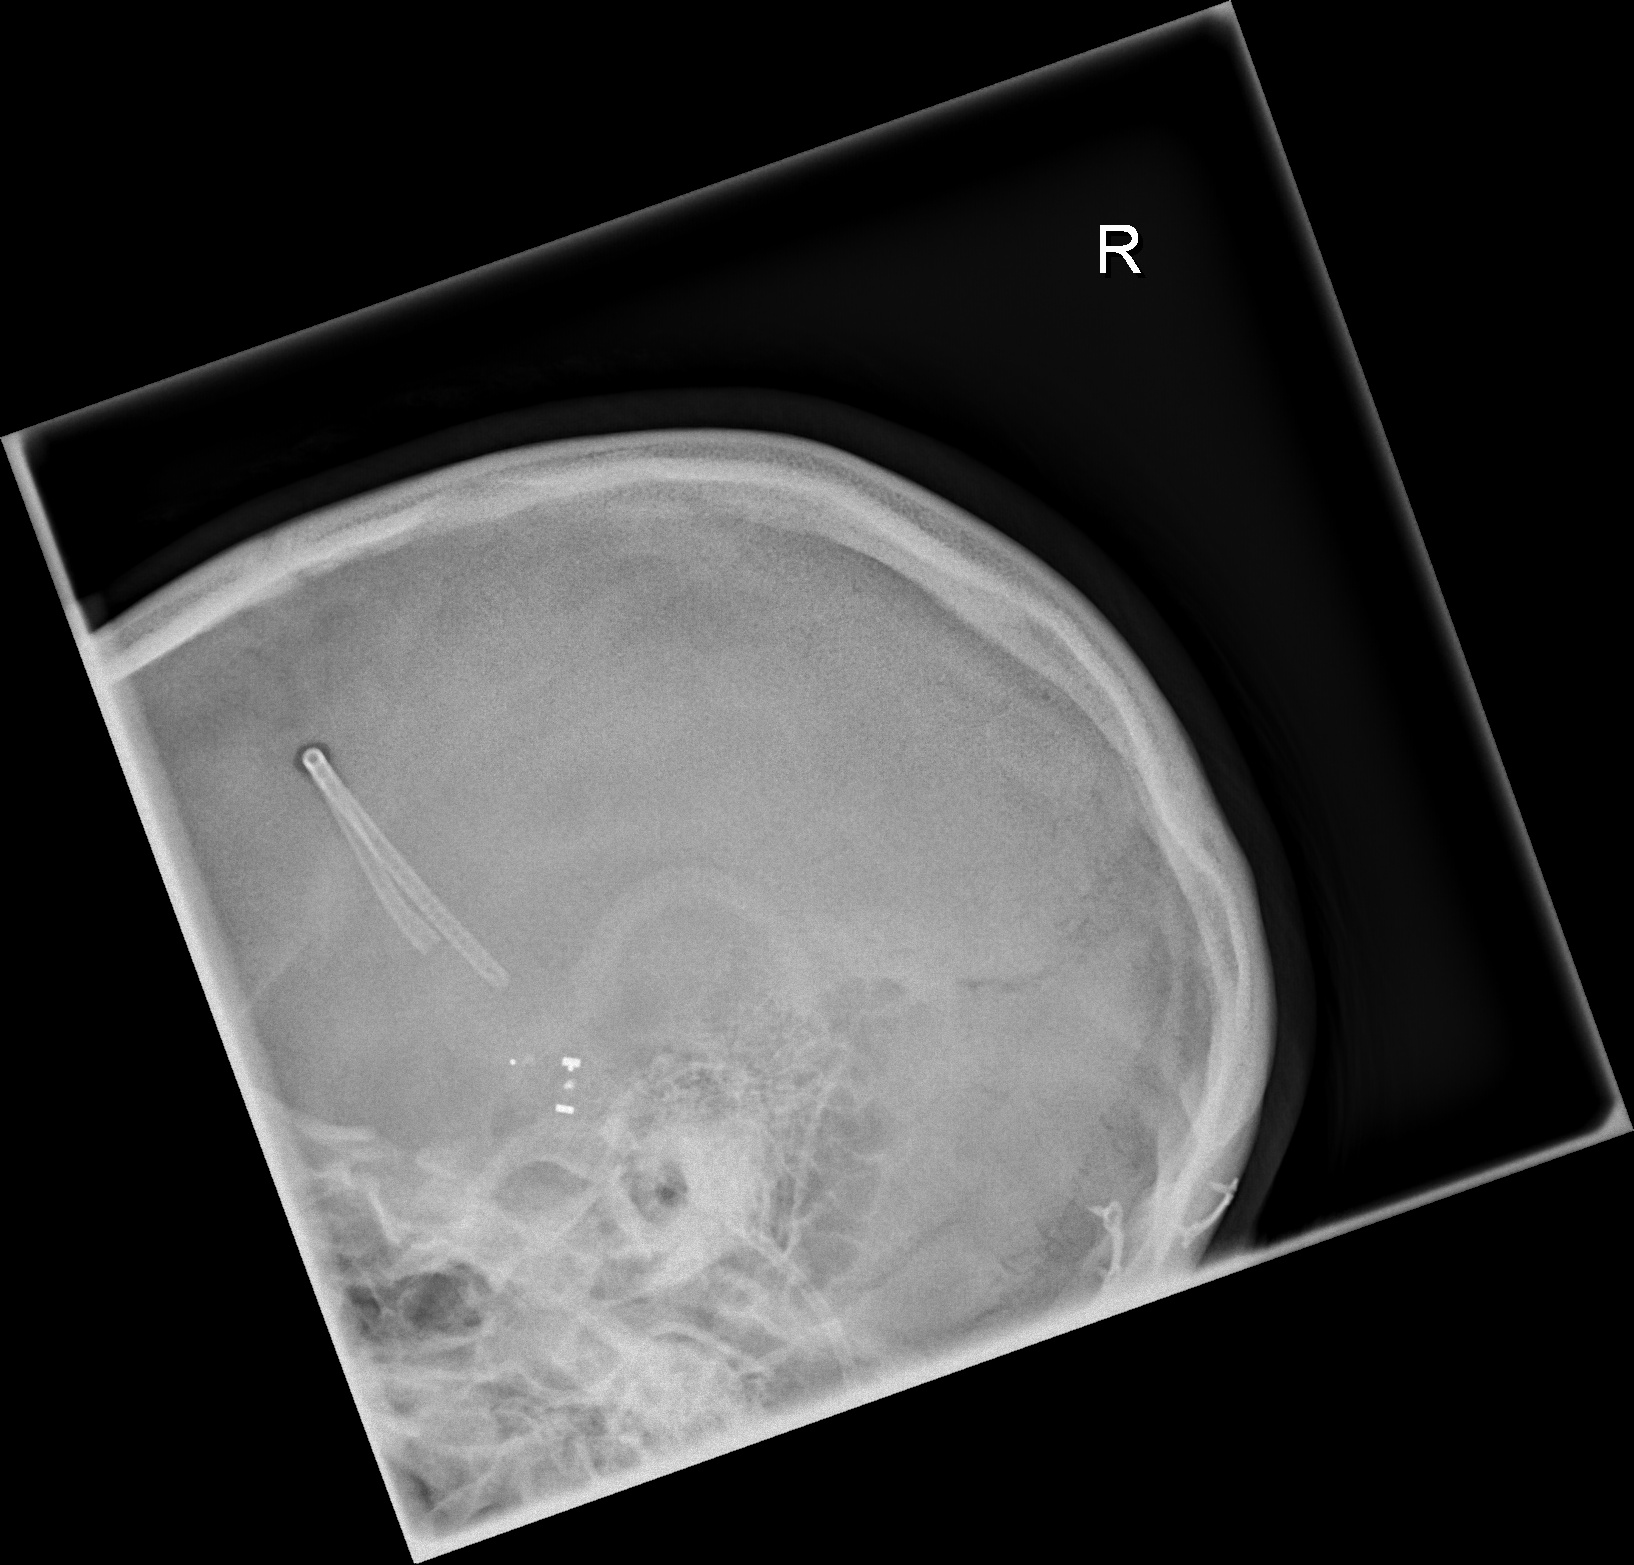Codman Certas: (497, 1037, 603, 1138)
